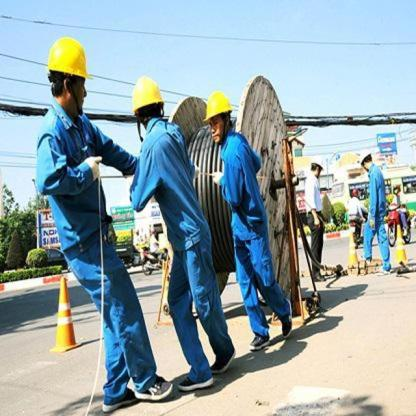bota: (96, 388, 146, 415), (129, 376, 176, 404), (208, 339, 240, 379), (276, 294, 298, 344), (174, 372, 224, 390), (247, 330, 275, 352), (357, 249, 377, 270), (306, 272, 334, 284), (374, 264, 397, 277), (400, 226, 415, 238)
capacete: (42, 33, 100, 122), (123, 70, 177, 136), (197, 88, 235, 145), (308, 150, 328, 184), (357, 148, 381, 174), (390, 181, 408, 202), (347, 185, 365, 201)
